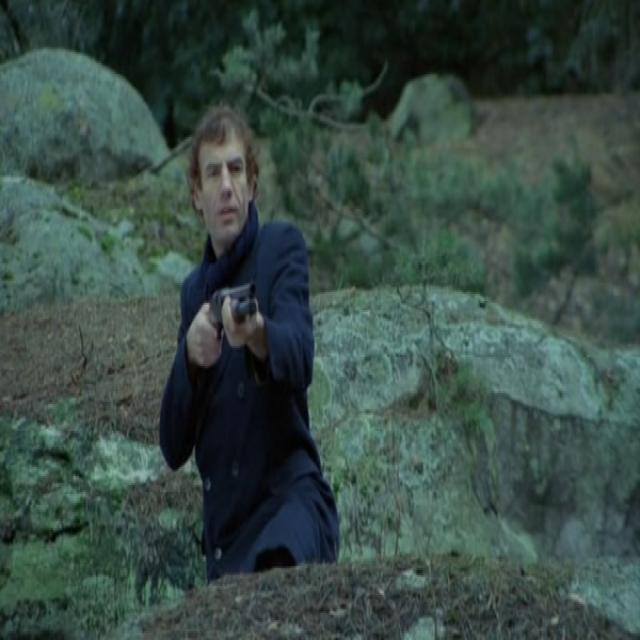rifle: (212, 277, 263, 326)
